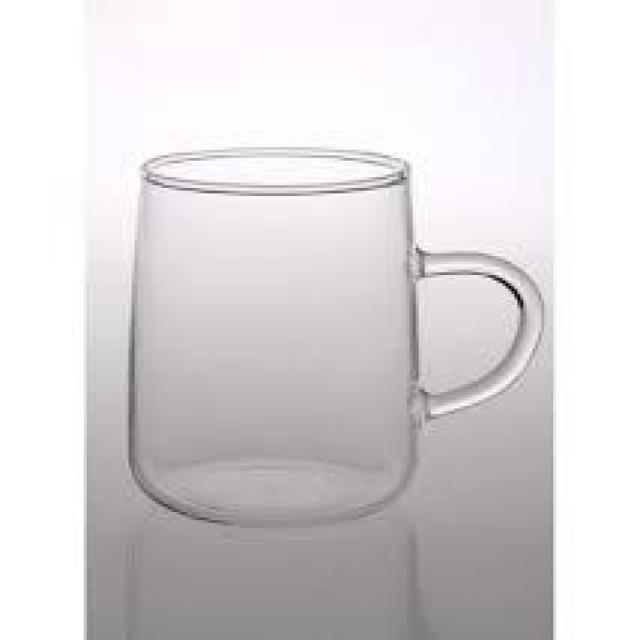non-organic waste: (132, 146, 544, 530)
